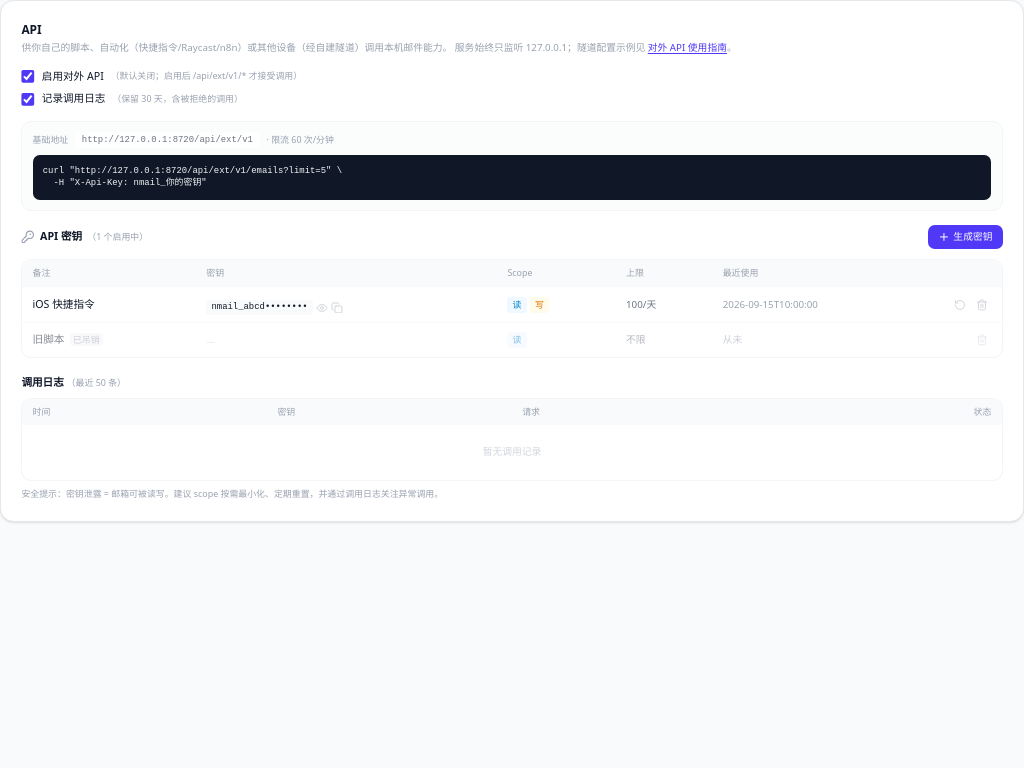
Test: ExtApiSection 密钥遮蔽与显隐 › 眼睛按钮显示完整密钥，再点隐藏
This screenshot has width=1024, height=768.
Click the button titled "显示完整密钥": [322, 308] box [316, 302, 328, 314]
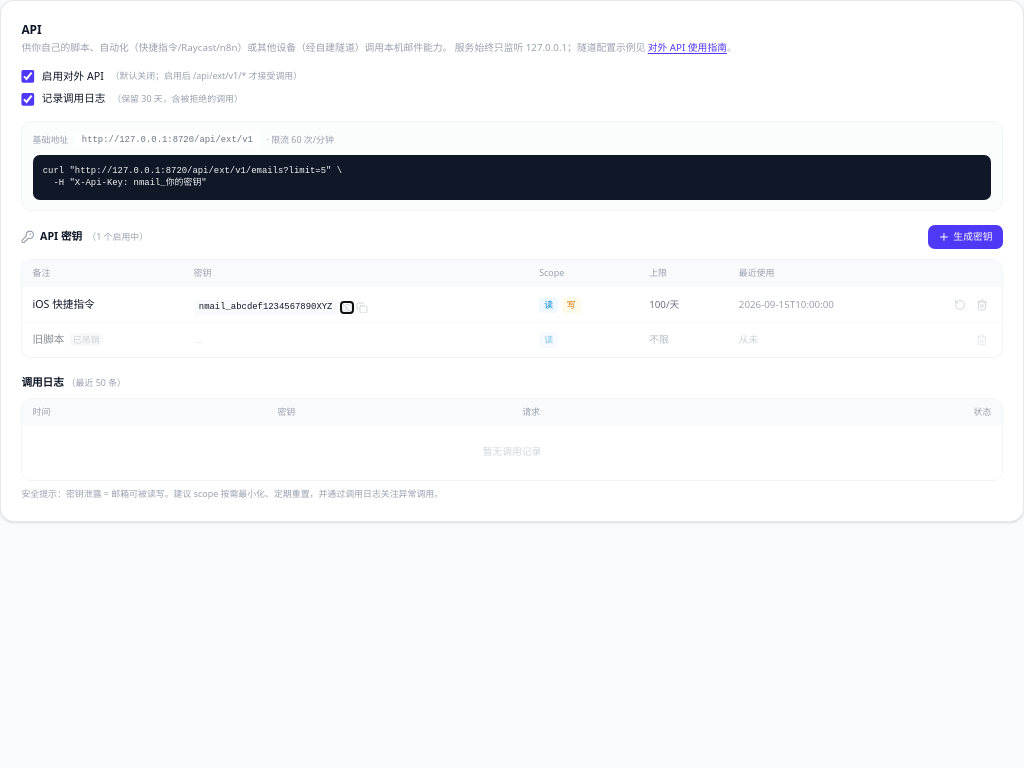
Result: the text "nmail_abcdef1234567890XYZ" is shown at [194, 300, 338, 316]
Click the button titled "隐藏": [347, 308] box [341, 302, 353, 314]
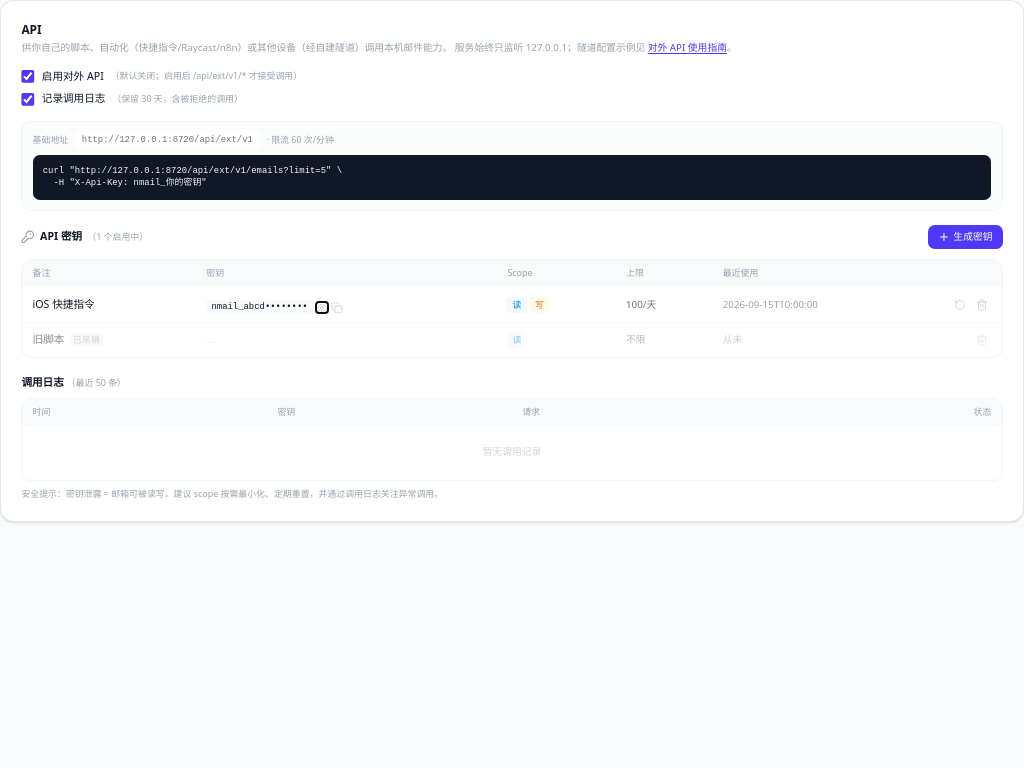
Result: the text "nmail_abcdef1234567890XYZ" is gone
